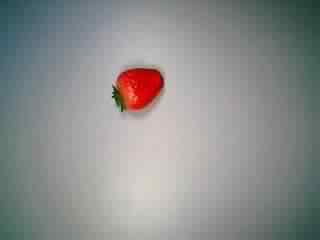strawberry: (99, 59, 167, 123)
